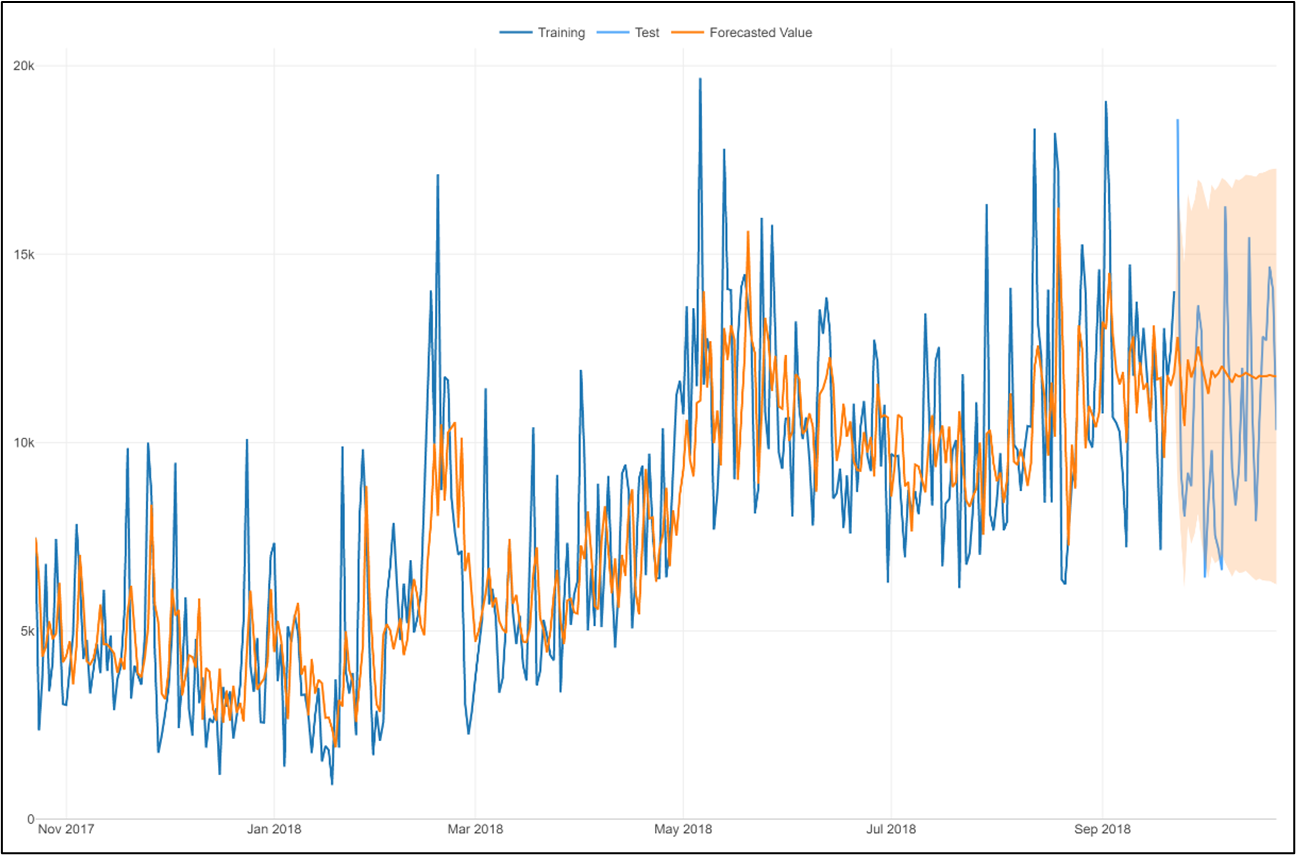

The page's visual inventory and layout, read from the dashboard file:
{"tool":"powerbi","page":{"name":"Figure 5. Multiplicative Holt-Winter’s Model Forecast using PowerBI","canvas":[1280,720],"ordinal":2},"visuals":[{"type":"lineChart","title":"Forecast using Multiplicative Holt-Winter''s Model","fields":{"Category":["DailyData.Date_PB"],"Y":["Sum(DailyData.Value)"]},"box":[16,0,1264,720],"z":0}]}

Visuals, with their boxes on the page's 1280x720 design canvas (x1, y1, x2, y2). These are canvas units, not pixel positions in the 1296x855 screenshot, which may show the page scaled, cropped or inside an application window:
"Forecast using Multiplicative Holt-Winter''s Model" lineChart: x1=16, y1=0, x2=1280, y2=720
